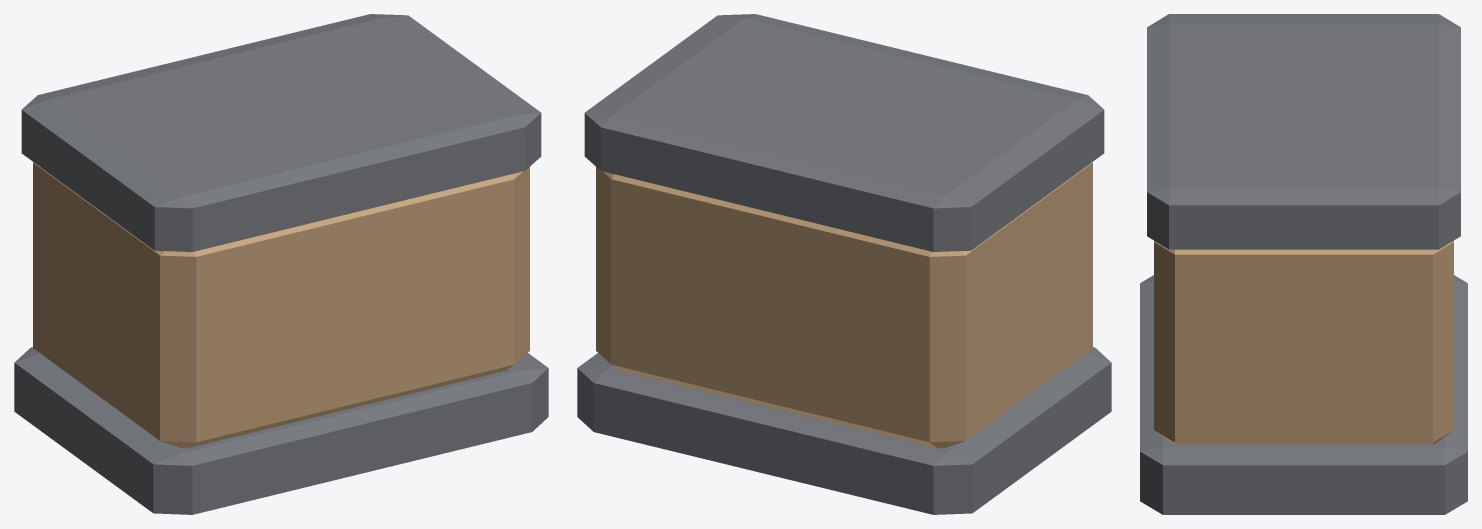
The model's file is b14_open_slatted_parts_crate.glb.
3 views of the same model, side by side, from view 1: azimuth 30°, elevation 25°; view 2: azimuth 150°, elevation 25°; view 3: azimuth 270°, elevation 25° (orthographic).
Visible parts, largest first — view 1: b14_open_slatted_parts_crate; view 2: b14_open_slatted_parts_crate; view 3: b14_open_slatted_parts_crate.
Boxes of the visible parts, x1,y1,x2,y2 form: b14_open_slatted_parts_crate: [14, 14, 548, 514]; b14_open_slatted_parts_crate: [577, 14, 1111, 514]; b14_open_slatted_parts_crate: [1140, 14, 1467, 514].
Size of the model in its own units: 0.748 by 0.562 by 0.53.
